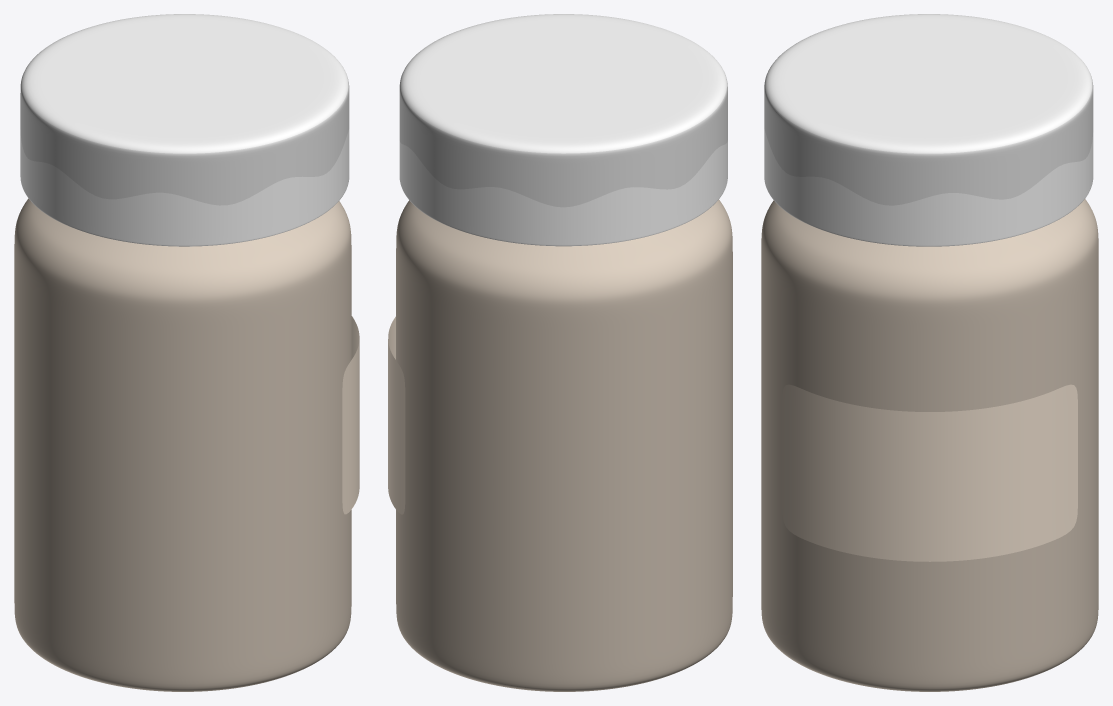
File: Final_container.fbx
3 renders of one model, left to right at view 1: azimuth 30°, elevation 25°; view 2: azimuth 150°, elevation 25°; view 3: azimuth 270°, elevation 25°, orthographic.
Parts seen in each view (by area): view 1: Vial - Scintillation - 20 mL, Vial - Scintillation - 20 mL.001, Vial - Scintillation - 20 mL.002; view 2: Vial - Scintillation - 20 mL, Vial - Scintillation - 20 mL.001, Vial - Scintillation - 20 mL.002; view 3: Vial - Scintillation - 20 mL, Vial - Scintillation - 20 mL.001, Vial - Scintillation - 20 mL.002.
Part boxes in pixels (bbox=[...]): Vial - Scintillation - 20 mL: bbox=[14, 198, 351, 691]; Vial - Scintillation - 20 mL.001: bbox=[20, 14, 349, 246]; Vial - Scintillation - 20 mL.002: bbox=[342, 316, 359, 514]; Vial - Scintillation - 20 mL: bbox=[396, 199, 732, 691]; Vial - Scintillation - 20 mL.001: bbox=[399, 14, 727, 246]; Vial - Scintillation - 20 mL.002: bbox=[388, 316, 405, 514]; Vial - Scintillation - 20 mL: bbox=[761, 199, 1098, 691]; Vial - Scintillation - 20 mL.001: bbox=[764, 14, 1093, 246]; Vial - Scintillation - 20 mL.002: bbox=[782, 384, 1077, 561].
Bounding box in the file's own units: 158 × 275 × 154.
